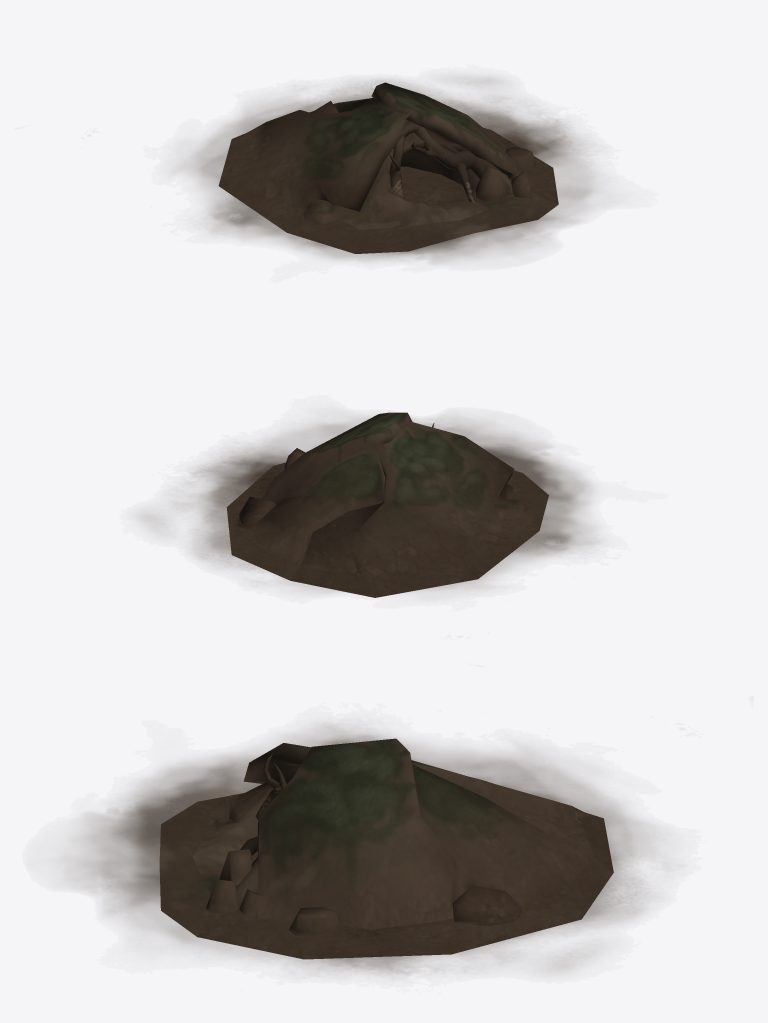
3 renders of one model, top to bottom at view 1: azimuth 30°, elevation 25°; view 2: azimuth 150°, elevation 25°; view 3: azimuth 270°, elevation 25°, orthographic. The views are drawn at different scales.
Visible parts, largest first — view 1: models_neutral_wolf_den_a-0-den, models_neutral_wolf_den_a-1-underlay; view 2: models_neutral_wolf_den_a-0-den, models_neutral_wolf_den_a-1-underlay; view 3: models_neutral_wolf_den_a-0-den, models_neutral_wolf_den_a-1-underlay.
Part boxes in pixels (x1,y1,x2,y2): models_neutral_wolf_den_a-0-den: (218,82,558,253); models_neutral_wolf_den_a-1-underlay: (180,78,596,262); models_neutral_wolf_den_a-0-den: (227,412,548,597); models_neutral_wolf_den_a-1-underlay: (142,418,595,591); models_neutral_wolf_den_a-0-den: (160,738,613,959); models_neutral_wolf_den_a-1-underlay: (65,725,653,974).
Size of the model in its own units: 14.32 by 4.01 by 14.32.
3 materials, 3 textured.
